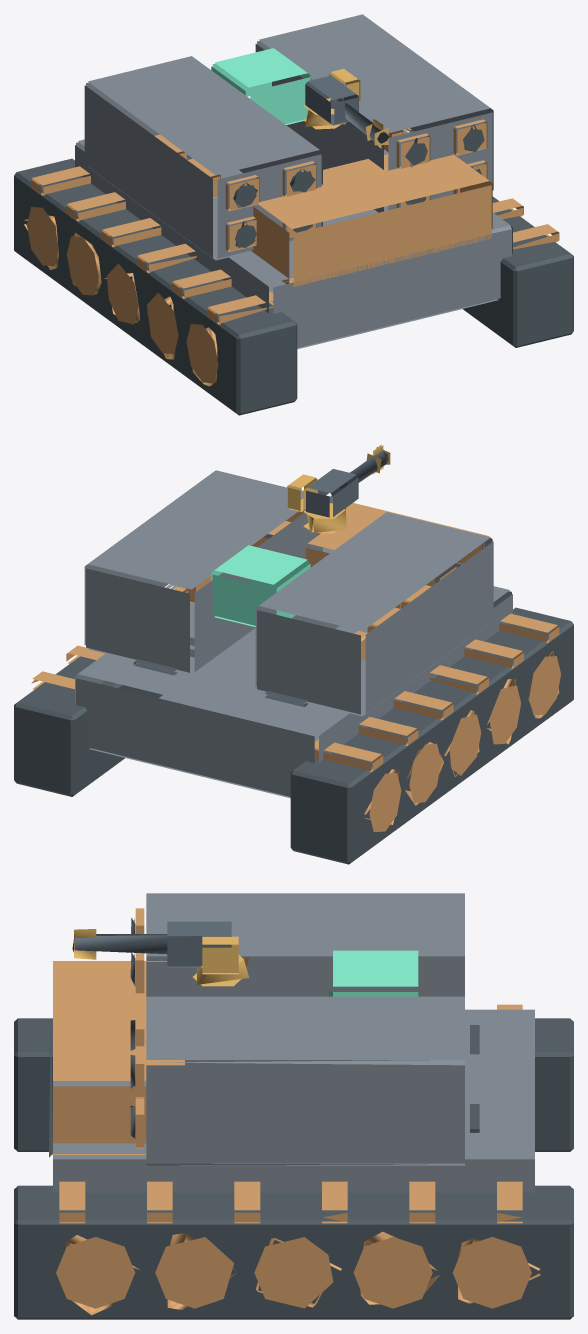
The model's file is boss-missile.glb.
3 views of the same model, one above another, from view 1: azimuth 30°, elevation 25°; view 2: azimuth 150°, elevation 25°; view 3: azimuth 270°, elevation 25° (orthographic). The views are drawn at different scales.
Visible parts, largest first — view 1: MissilePod, Tread, Track, Chassis, Core, LaunchTube, Auxiliary receiver, Detail launch bore, Auxiliary swivel; view 2: MissilePod, Track, Chassis, Tread, Core, Auxiliary receiver, Auxiliary swivel, LaunchTube; view 3: MissilePod, Track, Tread, Chassis, Auxiliary receiver, Core, Auxiliary swivel, LaunchTube, Detail launch bore.
Boxes of the visible parts, box(x1,y1,x2,y2) form: MissilePod: box(84, 14, 493, 260); Tread: box(24, 128, 559, 386); Track: box(14, 155, 573, 415); Chassis: box(75, 139, 512, 349); Core: box(211, 48, 310, 124); LaunchTube: box(154, 119, 487, 251); Auxiliary receiver: box(305, 75, 389, 141); Detail launch bore: box(233, 125, 484, 248); Auxiliary swivel: box(303, 69, 388, 148); MissilePod: box(84, 470, 493, 716); Track: box(14, 607, 573, 864); Chassis: box(75, 547, 512, 798); Tread: box(31, 490, 560, 831); Core: box(211, 545, 310, 626); Auxiliary receiver: box(305, 450, 388, 517); Auxiliary swivel: box(287, 444, 390, 533); LaunchTube: box(172, 510, 484, 660); MissilePod: box(146, 893, 464, 1165); Track: box(14, 1018, 573, 1319); Tread: box(53, 961, 540, 1315); Chassis: box(49, 1009, 534, 1192); Auxiliary receiver: box(74, 921, 231, 967); Core: box(329, 950, 418, 996); Auxiliary swivel: box(74, 929, 249, 986); LaunchTube: box(135, 908, 144, 1148); Detail launch bore: box(130, 918, 135, 1138).
Size of the model in its own units: 4.21 by 2.75 by 4.8.
